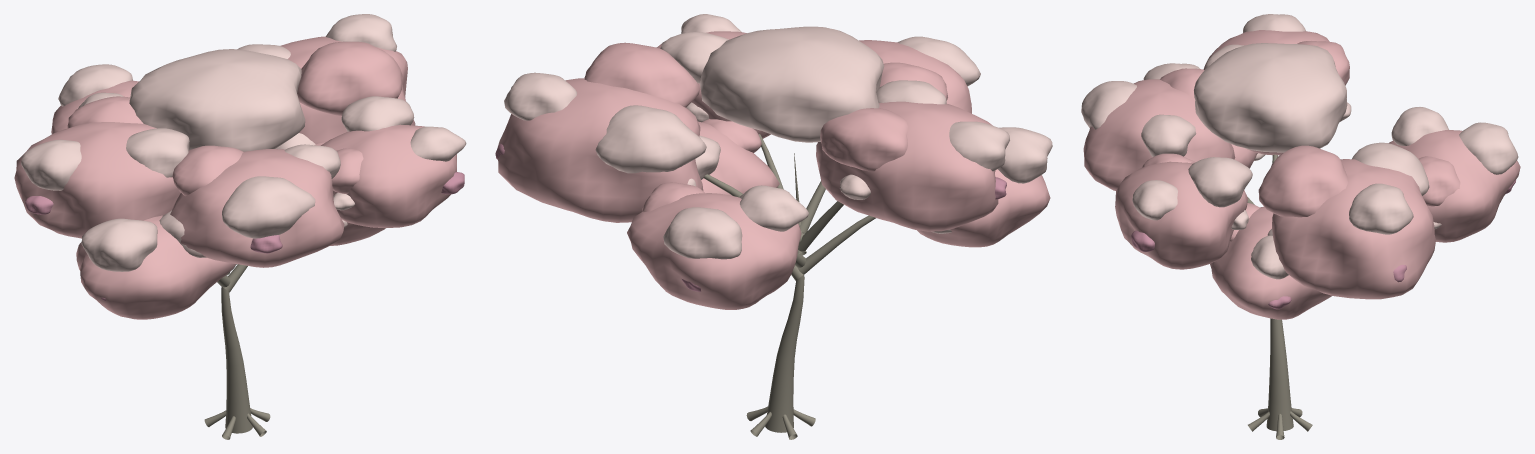
The model's file is diotree00.glb.
3 views of the same model, side by side, from view 1: azimuth 30°, elevation 25°; view 2: azimuth 150°, elevation 25°; view 3: azimuth 270°, elevation 25° (orthographic). The views are drawn at different scales.
Visible parts, largest first — view 1: DioTree00_Bloom, DioTree00_BloomLight, DioTree00_Trunk, DioTree00_BloomShade; view 2: DioTree00_Bloom, DioTree00_BloomLight, DioTree00_Trunk; view 3: DioTree00_Bloom, DioTree00_BloomLight, DioTree00_Trunk, DioTree00_BloomShade.
Boxes of the visible parts, x1,y1,x2,y2 form: DioTree00_Bloom: [14, 36, 456, 319]; DioTree00_BloomLight: [21, 14, 466, 276]; DioTree00_Trunk: [204, 264, 270, 439]; DioTree00_BloomShade: [25, 172, 464, 300]; DioTree00_Bloom: [497, 31, 1050, 309]; DioTree00_BloomLight: [504, 14, 1052, 259]; DioTree00_Trunk: [703, 134, 875, 439]; DioTree00_Bloom: [1083, 30, 1520, 319]; DioTree00_BloomLight: [1081, 14, 1518, 279]; DioTree00_Trunk: [1247, 154, 1312, 439]; DioTree00_BloomShade: [1131, 180, 1515, 309].
Size of the model in its own units: 9.88 by 8.18 by 9.
